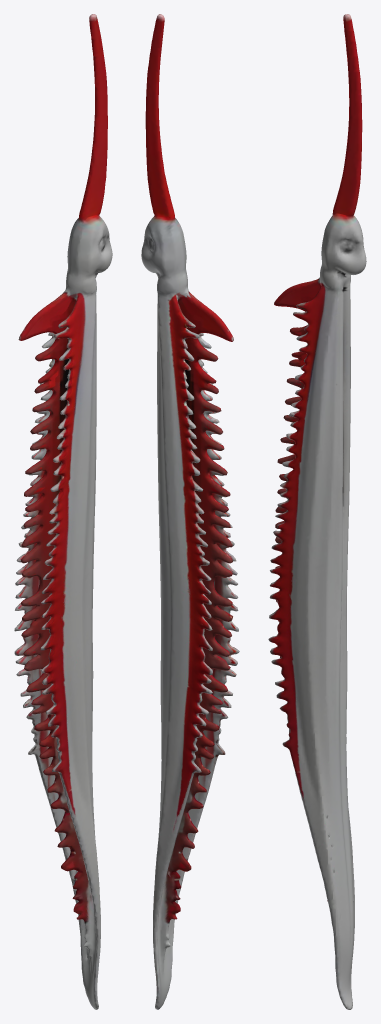
Rendered from oar_c.glb.
3 renders of one model, left to right at view 1: azimuth 30°, elevation 25°; view 2: azimuth 150°, elevation 25°; view 3: azimuth 330°, elevation 25°, orthographic.
Parts seen in each view (by area): view 1: tripo_node_489749b7-baa8-4393-bd38-050708147b25; view 2: tripo_node_489749b7-baa8-4393-bd38-050708147b25; view 3: tripo_node_489749b7-baa8-4393-bd38-050708147b25.
Part boxes in pixels (left/top/right/bottom): tripo_node_489749b7-baa8-4393-bd38-050708147b25: left=14, top=14, right=112, bottom=1009; tripo_node_489749b7-baa8-4393-bd38-050708147b25: left=141, top=14, right=239, bottom=1009; tripo_node_489749b7-baa8-4393-bd38-050708147b25: left=268, top=14, right=366, bottom=1009.
Size of the model in its own units: 0.0969 by 1 by 0.0522.
Materials: 1 (1 with a texture image).
